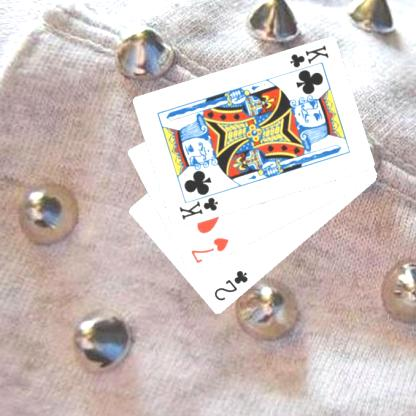2C: (211, 268, 250, 303)
7H: (188, 234, 230, 266)
KC: (285, 42, 330, 76), (176, 189, 220, 221)
